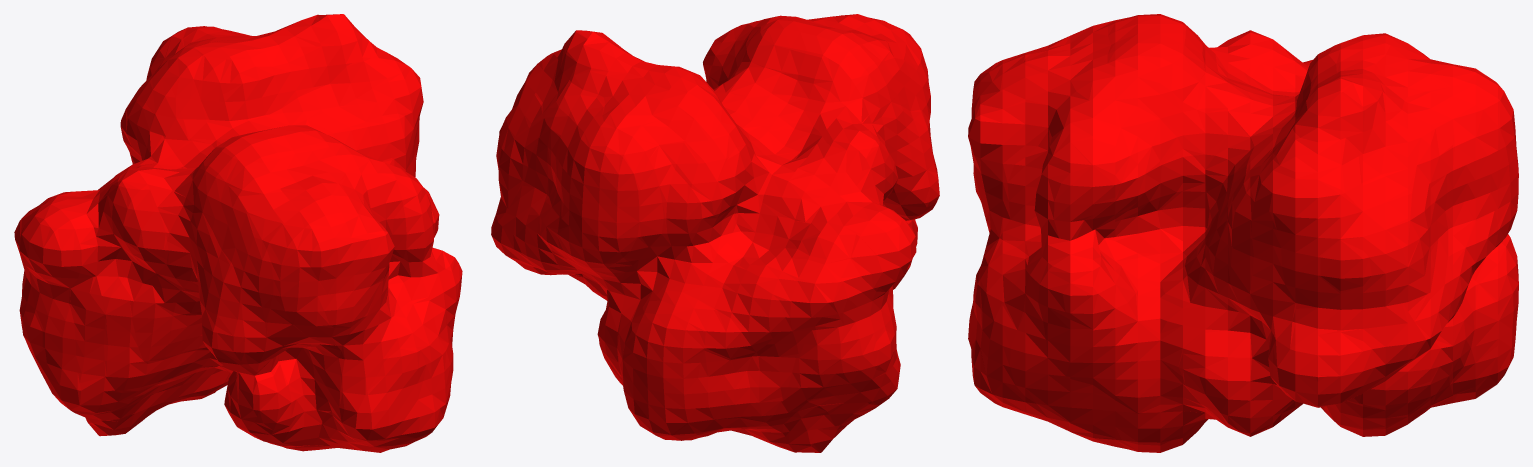
File: fadR_coarse.dae
The picture shows the model from 3 angles, left to right: view 1: azimuth 30°, elevation 25°; view 2: azimuth 150°, elevation 25°; view 3: azimuth 270°, elevation 25°; orthographic projection. The views are drawn at different scales.
Parts seen in each view (by area): view 1: fadR; view 2: fadR; view 3: fadR.
Boxes of the visible parts, x1,y1,x2,y2 form: fadR: (14,14,462,452); fadR: (491,14,939,452); fadR: (968,14,1518,452).
Bounding box in the file's own units: 65.67 × 56.85 × 65.85.
